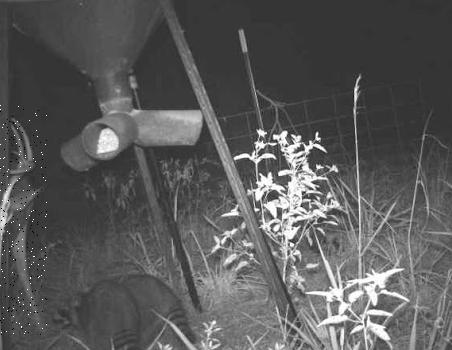Deer: (0, 104, 47, 336)
